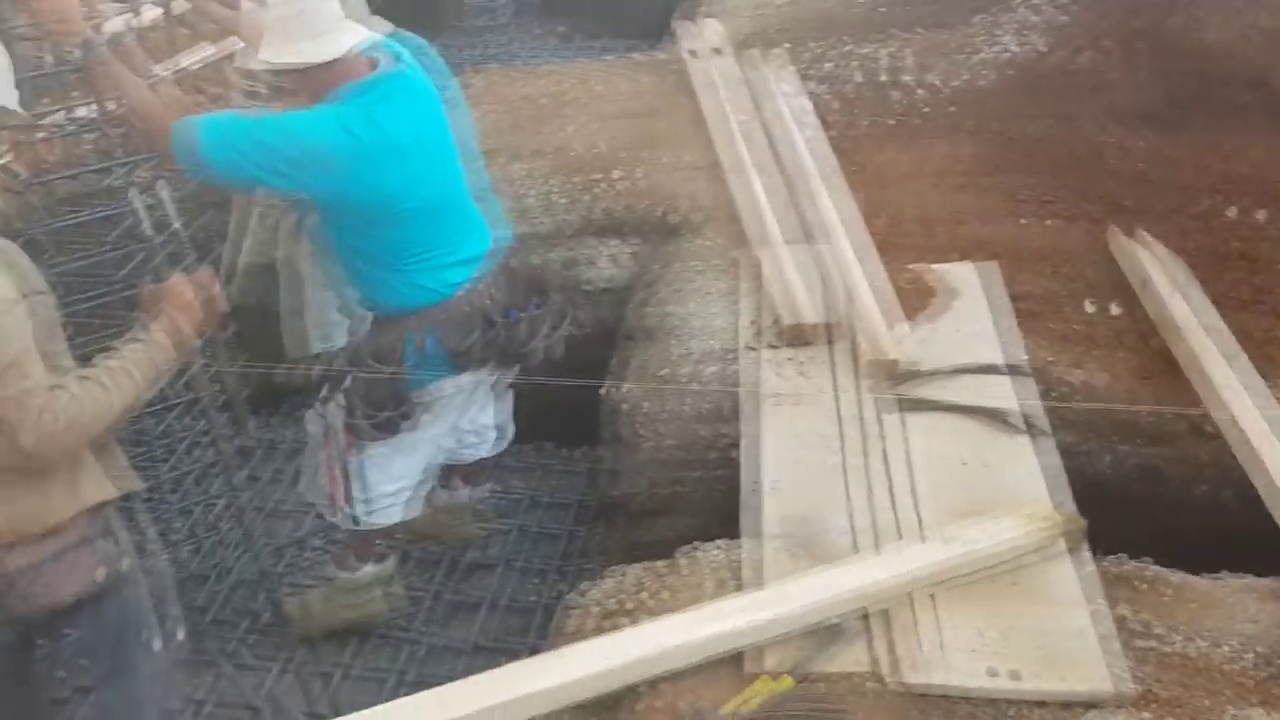helmet-off: (242, 5, 365, 112)
person: (22, 4, 518, 647), (3, 53, 232, 718)
